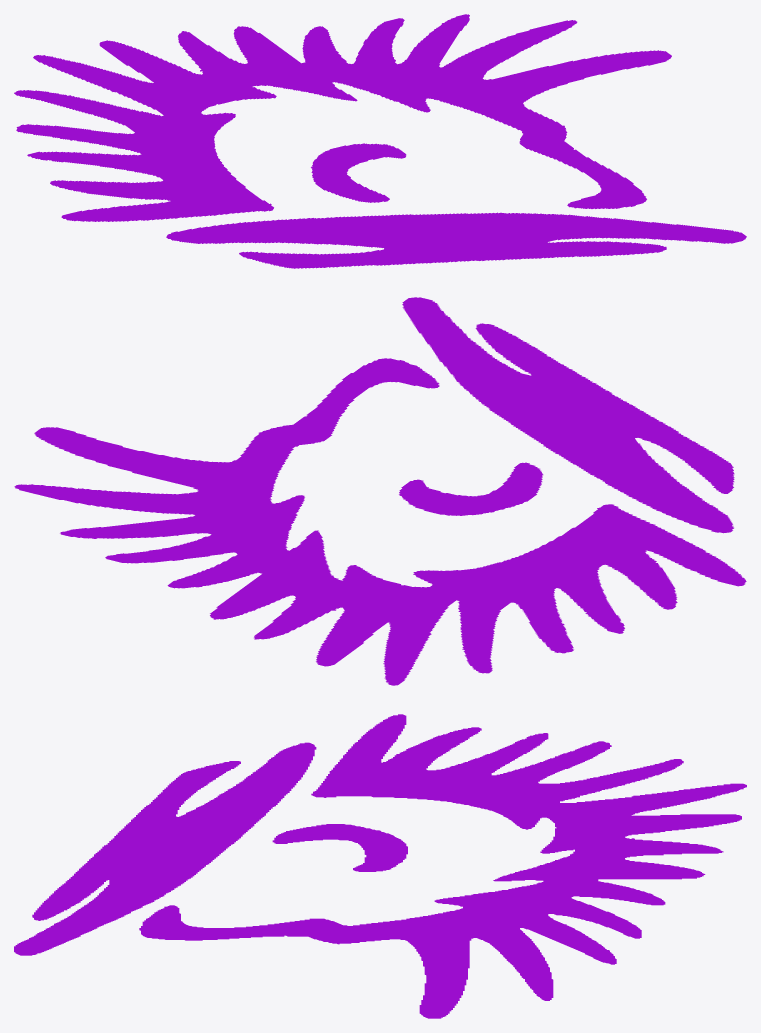
Rendered from sotano.gltf.
The picture shows the model from 3 angles, top to bottom: view 1: azimuth 30°, elevation 25°; view 2: azimuth 150°, elevation 25°; view 3: azimuth 270°, elevation 25°; orthographic projection. The views are drawn at different scales.
Parts seen in each view (by area): view 1: imagetostl_mesh; view 2: imagetostl_mesh; view 3: imagetostl_mesh.
Part boxes in pixels (x1,y1,x2,y2): imagetostl_mesh: (14,14,746,268); imagetostl_mesh: (14,297,746,685); imagetostl_mesh: (14,714,746,1018).
Bounding box in the file's own units: 8.48 × 0 × 8.63.
